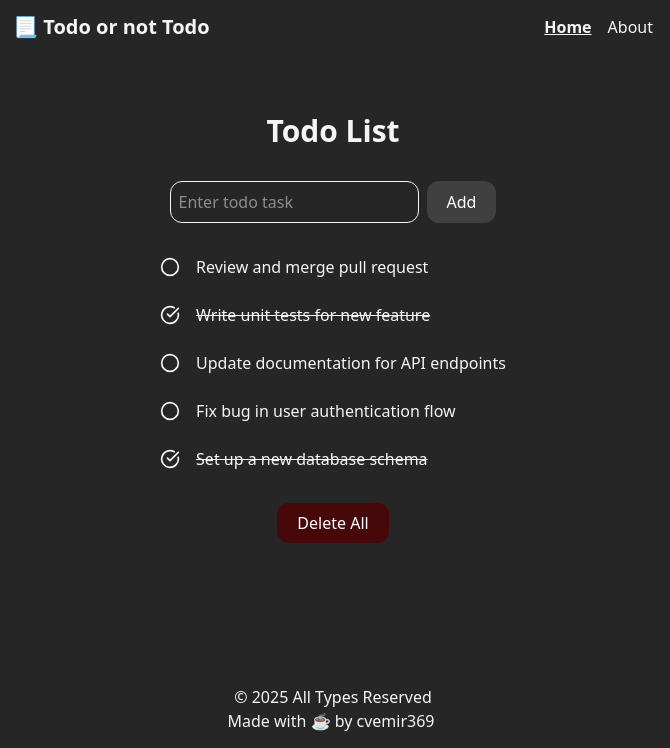
Test: todo items › should delete all todo items
Type "New Todo Item" into the field with placeholder "Enter todo task" at x=295, y=202, box [170,181,419,223]
Then press Enter
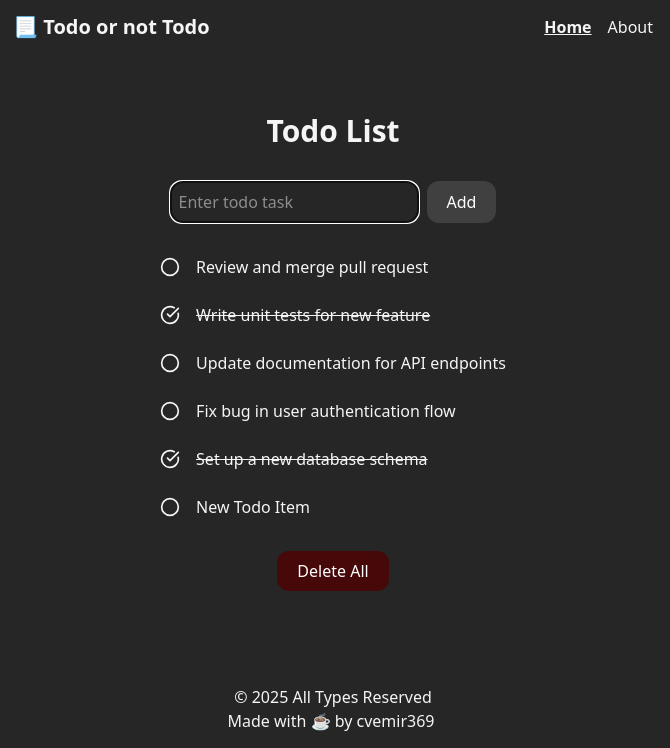
Type "Another Todo Item" into the field with placeholder "Enter todo task" at x=295, y=202, box [170,181,419,223]
Then press Enter
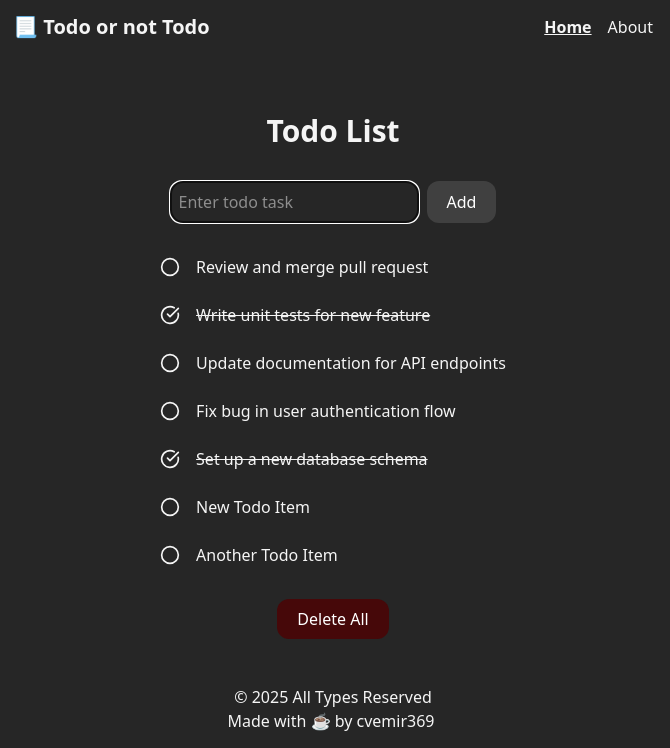
Click the button "Delete All" at x=333, y=619, box [277,599,388,639]
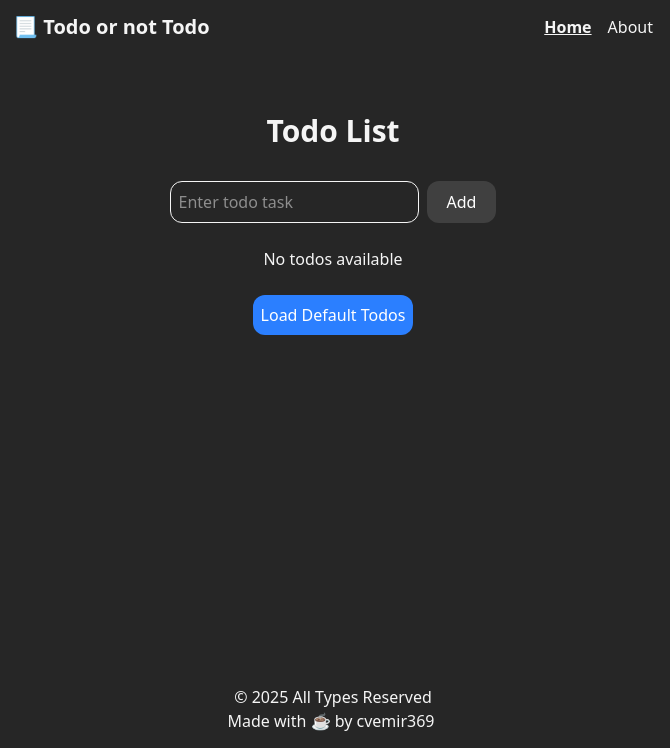
expect no list items are shown: met
